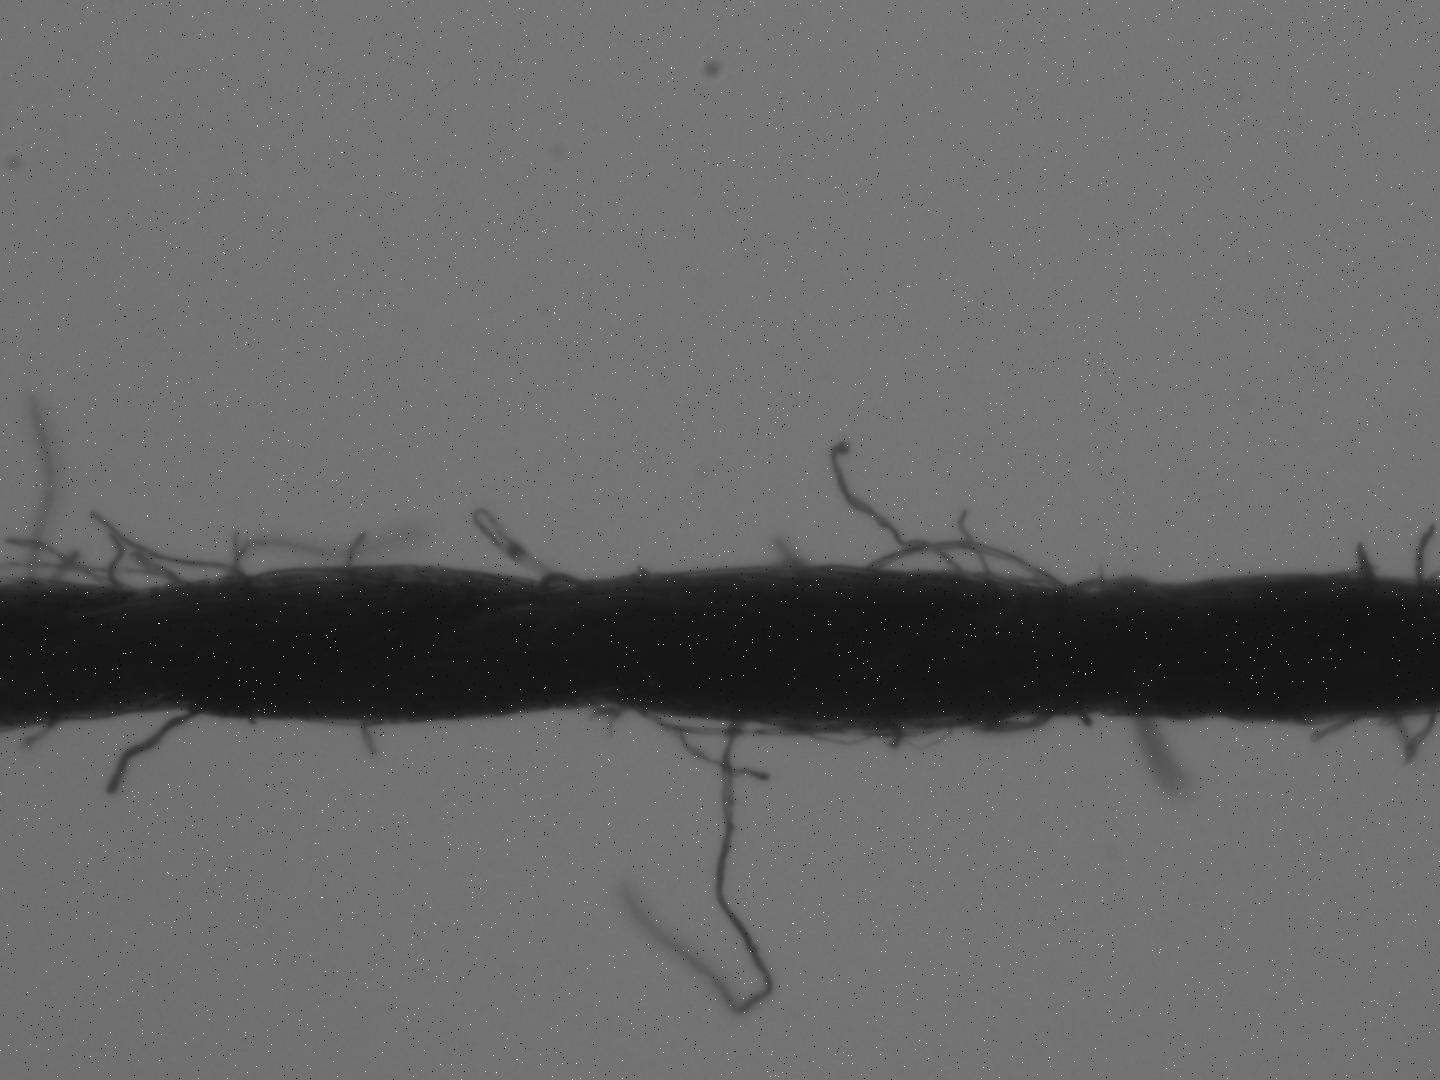loop_fiber: (867, 540, 1068, 593), (620, 709, 838, 736), (1070, 574, 1143, 594), (976, 716, 1054, 732), (916, 717, 993, 732), (549, 572, 595, 592)
protruding_fiber: (617, 720, 768, 1016), (836, 439, 971, 581), (86, 514, 248, 575), (104, 707, 206, 795), (956, 507, 990, 590), (1311, 711, 1366, 744), (1420, 525, 1438, 580), (364, 719, 380, 754), (354, 531, 364, 567)
